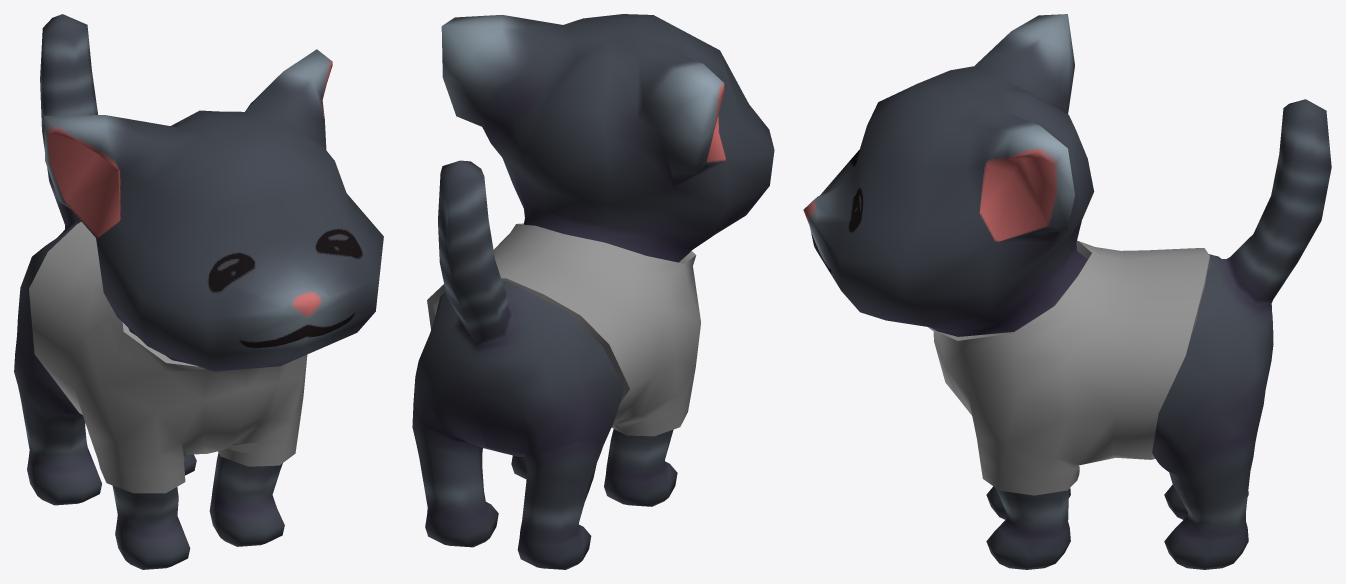
File: USG Cat04.fbx
3 views of the same model, side by side, from view 1: azimuth 30°, elevation 25°; view 2: azimuth 150°, elevation 25°; view 3: azimuth 270°, elevation 25° (orthographic). The views are drawn at different scales.
Visible parts, largest first — view 1: Cat_Base003, tshirt001; view 2: Cat_Base003, tshirt001; view 3: Cat_Base003, tshirt001.
Part boxes in pixels (x1=…): Cat_Base003: x1=14, y1=14, x2=383, y2=569; tshirt001: x1=29, y1=221, x2=307, y2=493; Cat_Base003: x1=412, y1=14, x2=774, y2=569; tshirt001: x1=427, y1=223, x2=700, y2=436; Cat_Base003: x1=803, y1=14, x2=1331, y2=569; tshirt001: x1=928, y1=240, x2=1209, y2=495.
Size of the model in its own units: 1.75 by 2.83 by 2.68.
2 materials, 1 textured.
